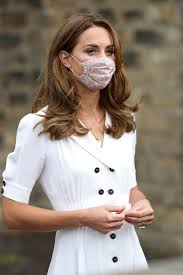mask: (82, 58, 116, 89)
